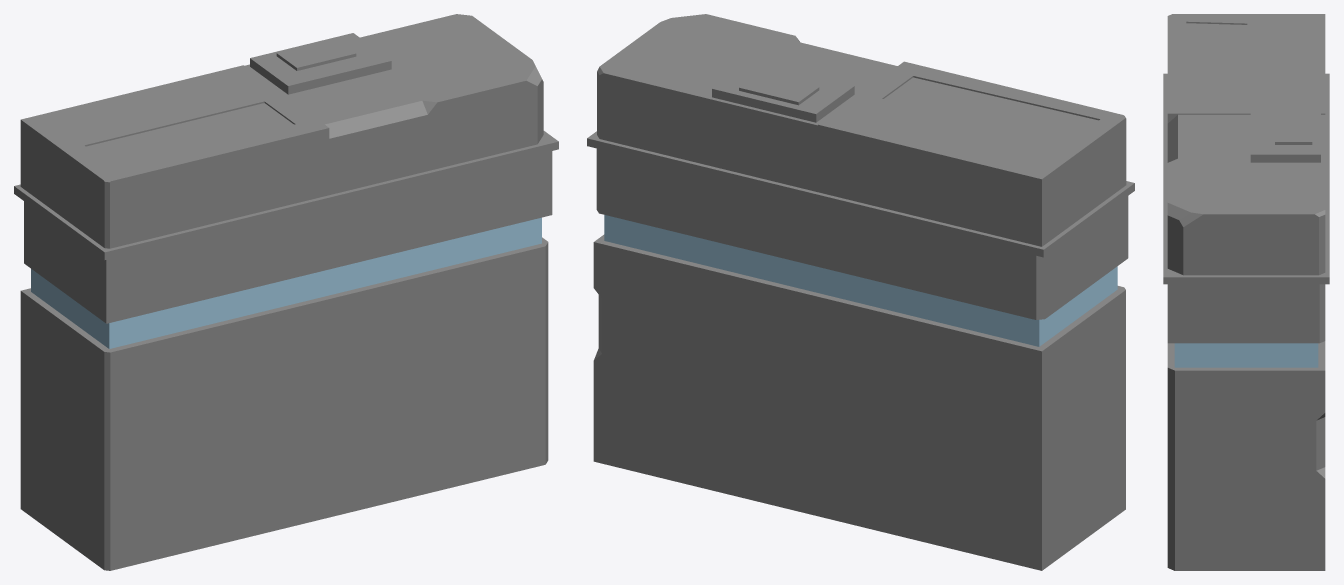
File: Stage007.fbx
3 views of the same model, side by side, from view 1: azimuth 30°, elevation 25°; view 2: azimuth 150°, elevation 25°; view 3: azimuth 270°, elevation 25° (orthographic). The views are drawn at different scales.
Visible parts, largest first — view 1: Cube; view 2: Cube; view 3: Cube.
Boxes of the visible parts, left/top/right/bottom form: Cube: left=14, top=14, right=558, bottom=570; Cube: left=587, top=14, right=1134, bottom=570; Cube: left=1163, top=14, right=1329, bottom=570.
Size of the model in its own units: 611 by 515 by 211.
